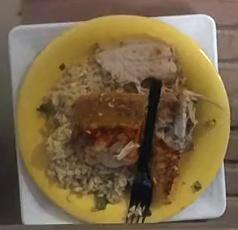pizza_crust: (72, 93, 146, 130)
pork: (87, 42, 178, 93)
rice_mix: (38, 56, 125, 203)
